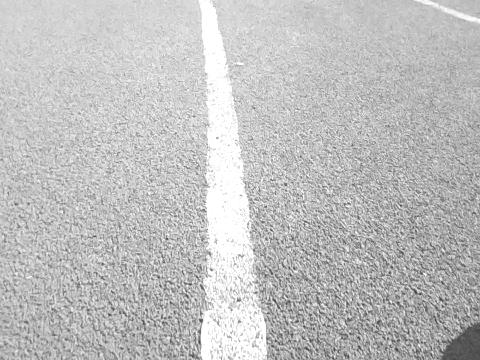Lines: (198, 0, 268, 360)
